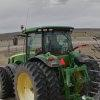Tractor: (6, 18, 93, 100)
